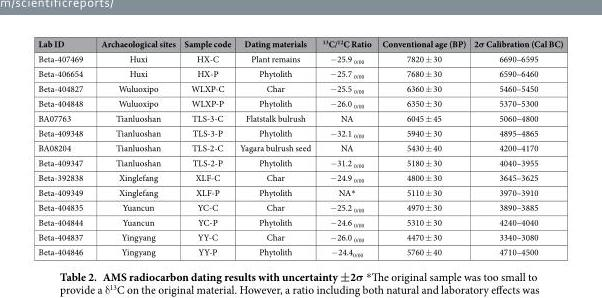table: (37, 37, 562, 258)
table column: (376, 37, 469, 258), (469, 37, 562, 258), (91, 37, 179, 258), (234, 37, 316, 258), (316, 37, 376, 258), (179, 37, 234, 258), (37, 37, 91, 258)
table column header: (37, 37, 562, 50)
table row: (37, 50, 562, 66), (37, 154, 562, 170), (37, 66, 562, 81), (37, 95, 562, 110), (37, 110, 562, 125), (37, 125, 562, 140), (37, 184, 562, 199), (37, 199, 562, 214), (37, 214, 562, 229), (37, 229, 562, 244), (37, 81, 562, 95), (37, 140, 562, 154), (37, 170, 562, 184), (37, 244, 562, 258), (37, 37, 562, 50)
